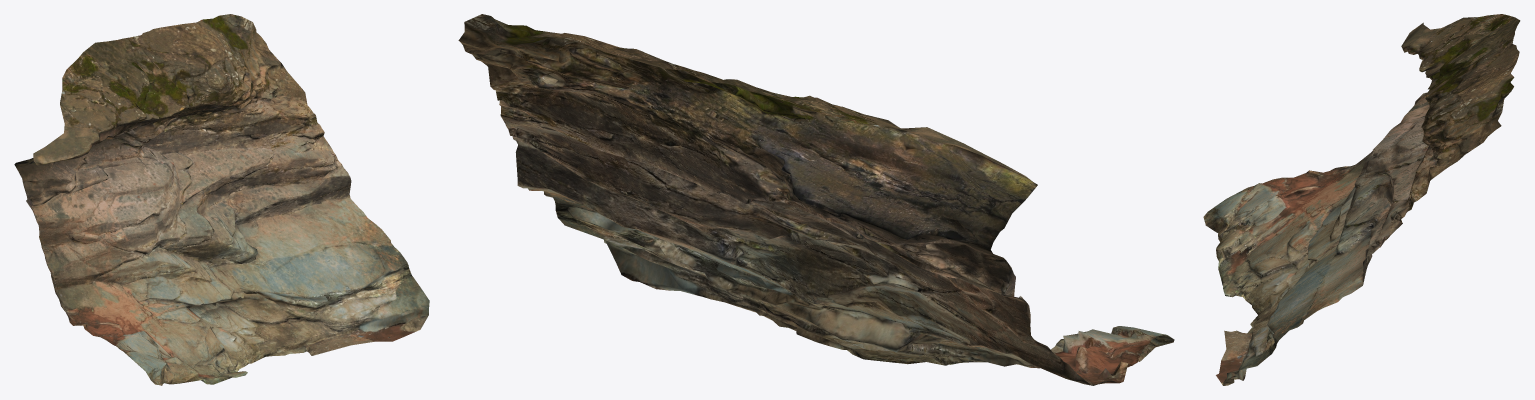
The model's file is rock_face_01_lod2.glb.
3 renders of one model, left to right at view 1: azimuth 30°, elevation 25°; view 2: azimuth 150°, elevation 25°; view 3: azimuth 270°, elevation 25°, orthographic. The views are drawn at different scales.
Visible parts, largest first — view 1: rock_face_01; view 2: rock_face_01; view 3: rock_face_01.
Part boxes in pixels (bbox=[...]): rock_face_01: bbox=[14, 14, 429, 385]; rock_face_01: bbox=[458, 14, 1174, 385]; rock_face_01: bbox=[1203, 14, 1520, 385].
Size of the model in its own units: 4.93 by 3.56 by 3.82.
1 material, 1 textured.
